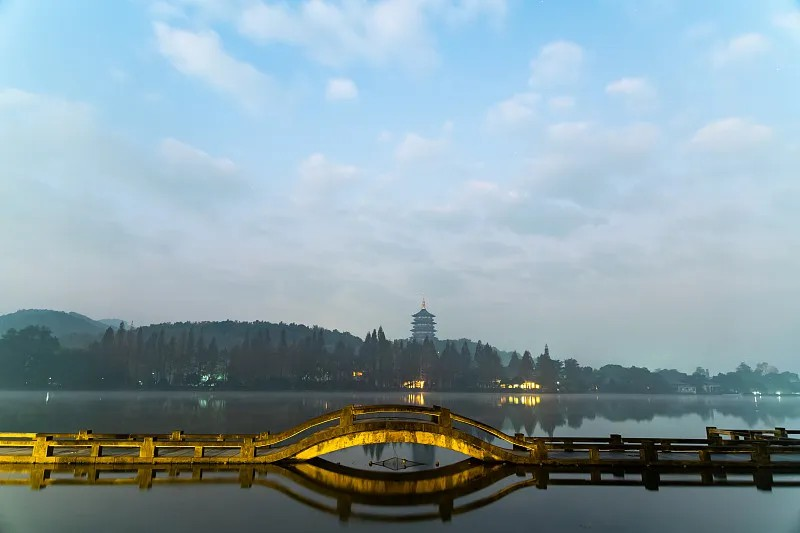Leifeng: (410, 295, 437, 345)
